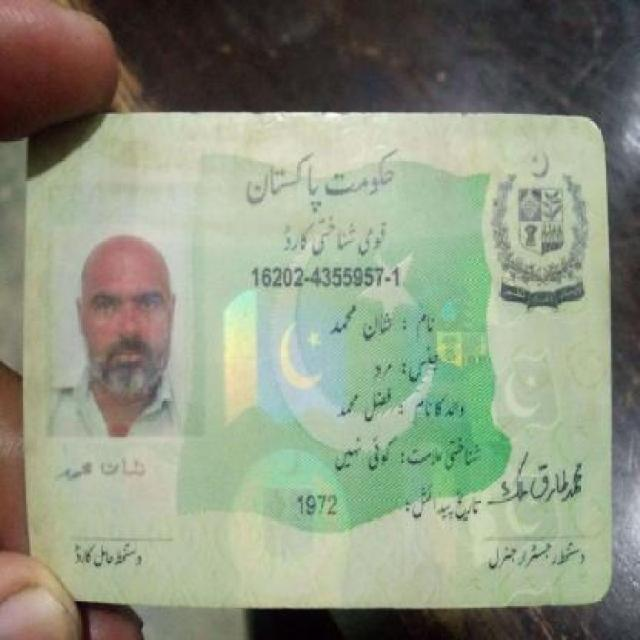Front: (14, 69, 618, 625)
